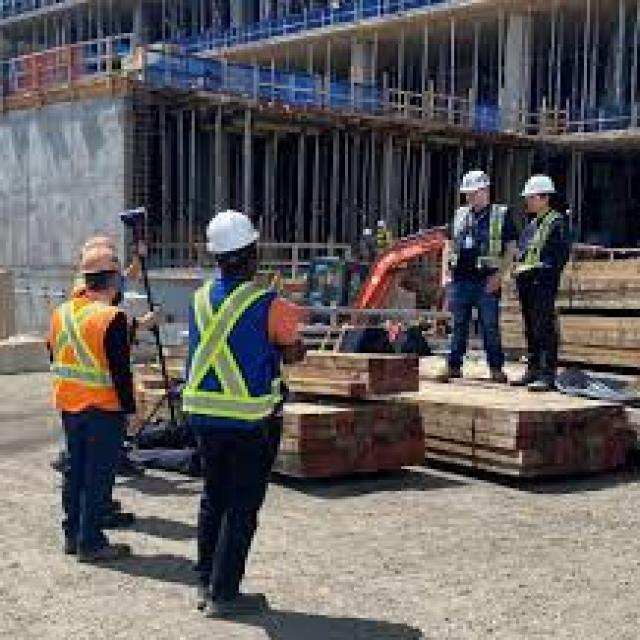Reflective-Jacket: (171, 270, 301, 447), (32, 292, 144, 425), (440, 202, 510, 292), (513, 210, 575, 278)
Safety-Helmet: (192, 201, 268, 265), (62, 226, 133, 290), (452, 163, 498, 201), (516, 168, 560, 204)
